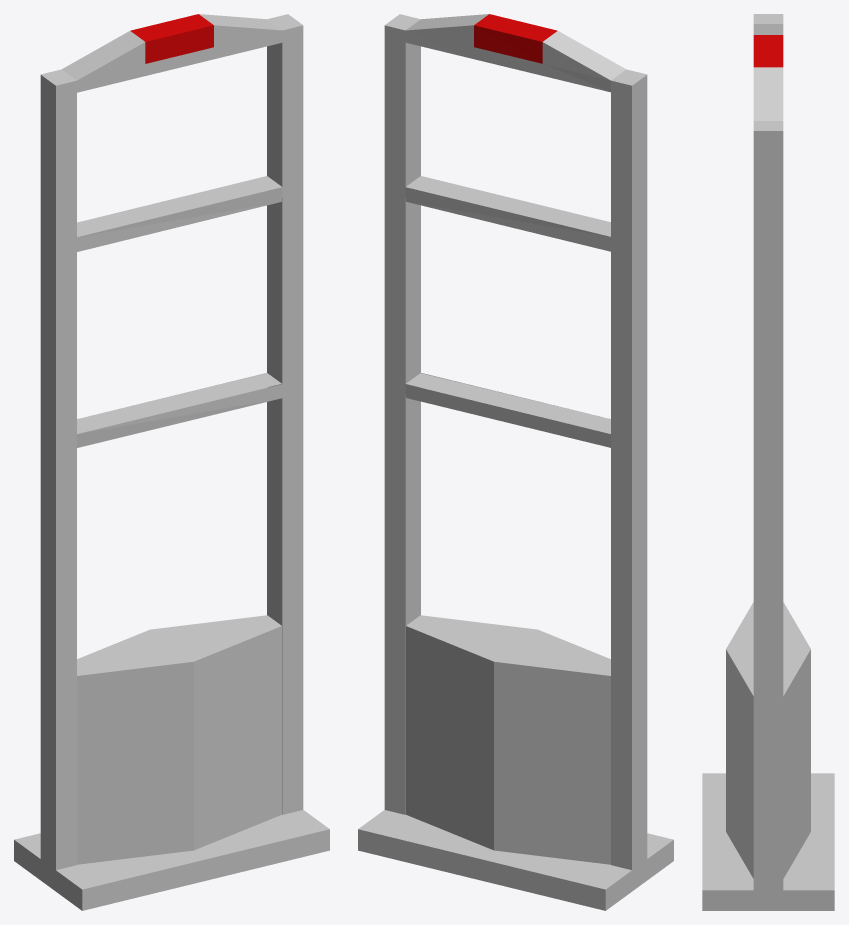
The model's file is kapi alarmi.fbx.
3 views of the same model, side by side, from view 1: azimuth 30°, elevation 25°; view 2: azimuth 150°, elevation 25°; view 3: azimuth 270°, elevation 25° (orthographic). The views are drawn at different scales.
Visible parts, largest first — view 1: Cube; view 2: Cube; view 3: Cube.
Boxes of the visible parts, x1,y1,x2,y2 form: Cube: (14, 14, 329, 910); Cube: (358, 14, 673, 910); Cube: (702, 14, 834, 910).
Size of the model in its own units: 200 by 639 by 95.43.
